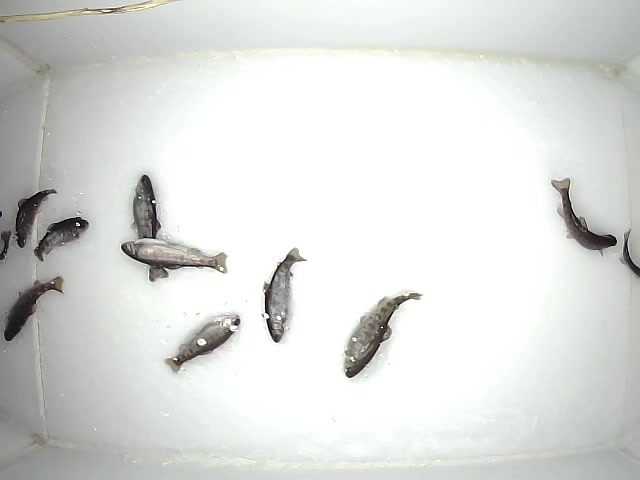fish: (341, 289, 424, 379), (548, 176, 619, 258), (161, 308, 242, 374), (259, 245, 308, 344), (1, 273, 66, 343), (119, 234, 228, 275), (130, 172, 169, 284), (12, 184, 58, 250), (33, 215, 92, 263)
